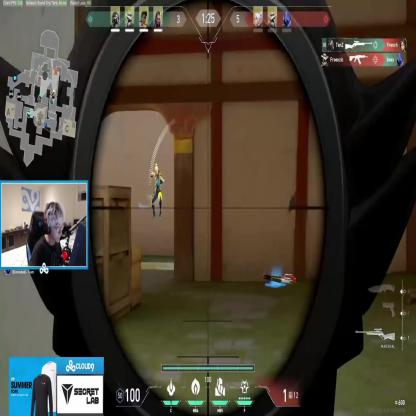enemy: (150, 164, 164, 218)
enemy_head: (155, 165, 159, 175)
